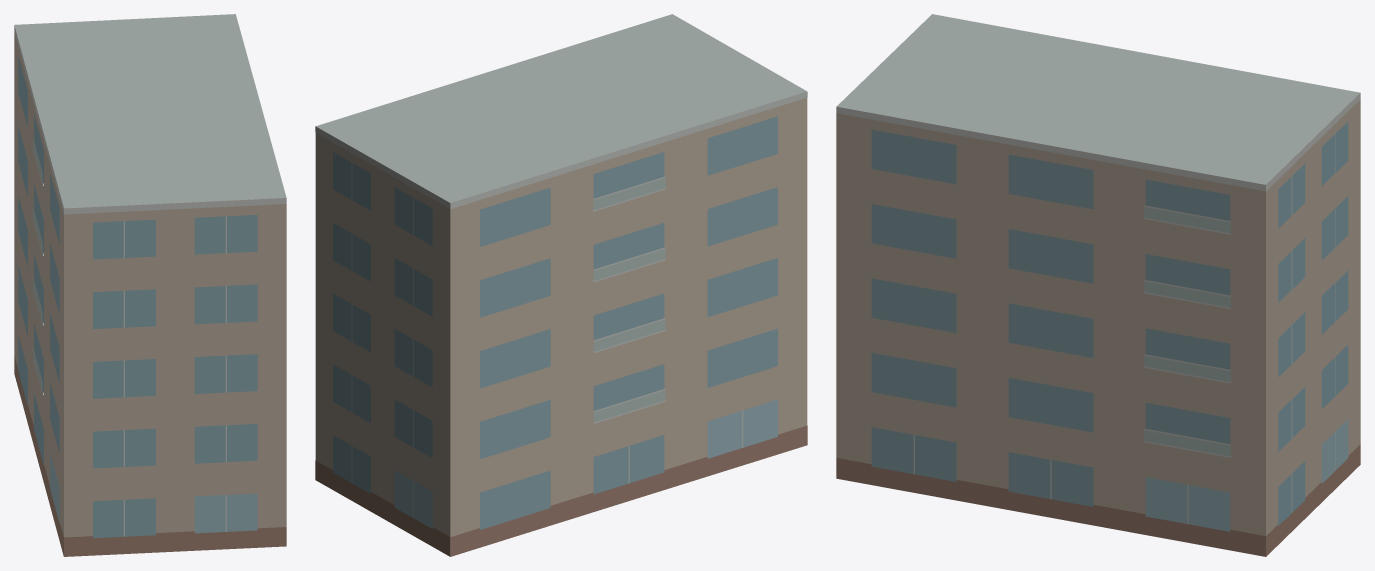
The model's file is survey-upis-32565581.glb.
3 renders of one model, left to right at view 1: azimuth 30°, elevation 25°; view 2: azimuth 150°, elevation 25°; view 3: azimuth 270°, elevation 25°, orthographic. The views are drawn at different scales.
Visible parts, largest first — view 1: survey-upis-32565581.tmp; view 2: survey-upis-32565581.tmp; view 3: survey-upis-32565581.tmp.
Boxes of the visible parts, x1,y1,x2,y2 form: survey-upis-32565581.tmp: (14,14,286,556); survey-upis-32565581.tmp: (315,14,807,556); survey-upis-32565581.tmp: (836,14,1360,556).
Bounding box in the file's own units: 13.86 × 14.05 × 17.95.
